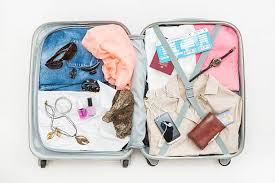suitcase: (29, 18, 249, 170)
